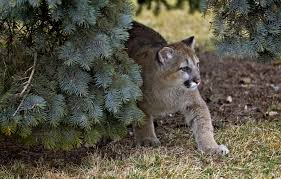Mountain Lion: (142, 33, 255, 159)
